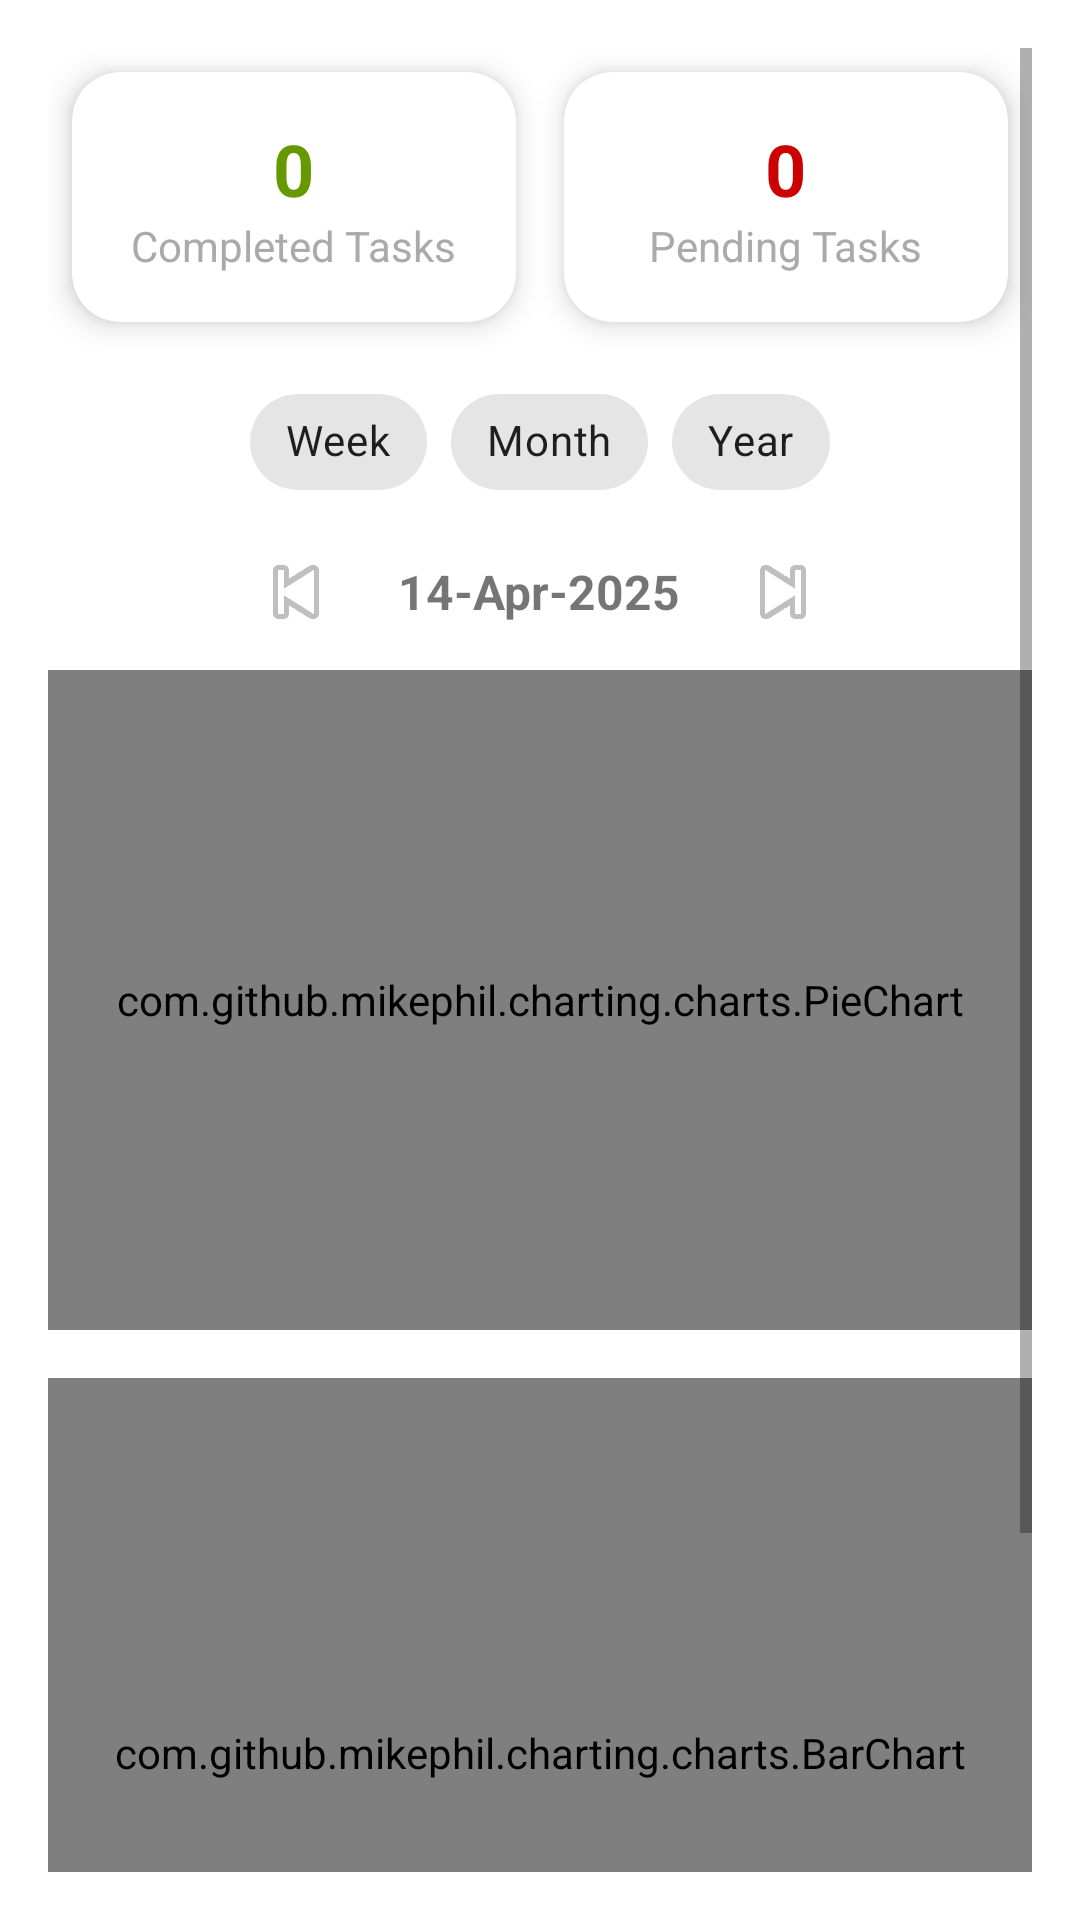

Icons on this 1080px×1920px Android screen, each with the point to tap as [x,y]:
Next: [783,592]
Previous: [296,592]
